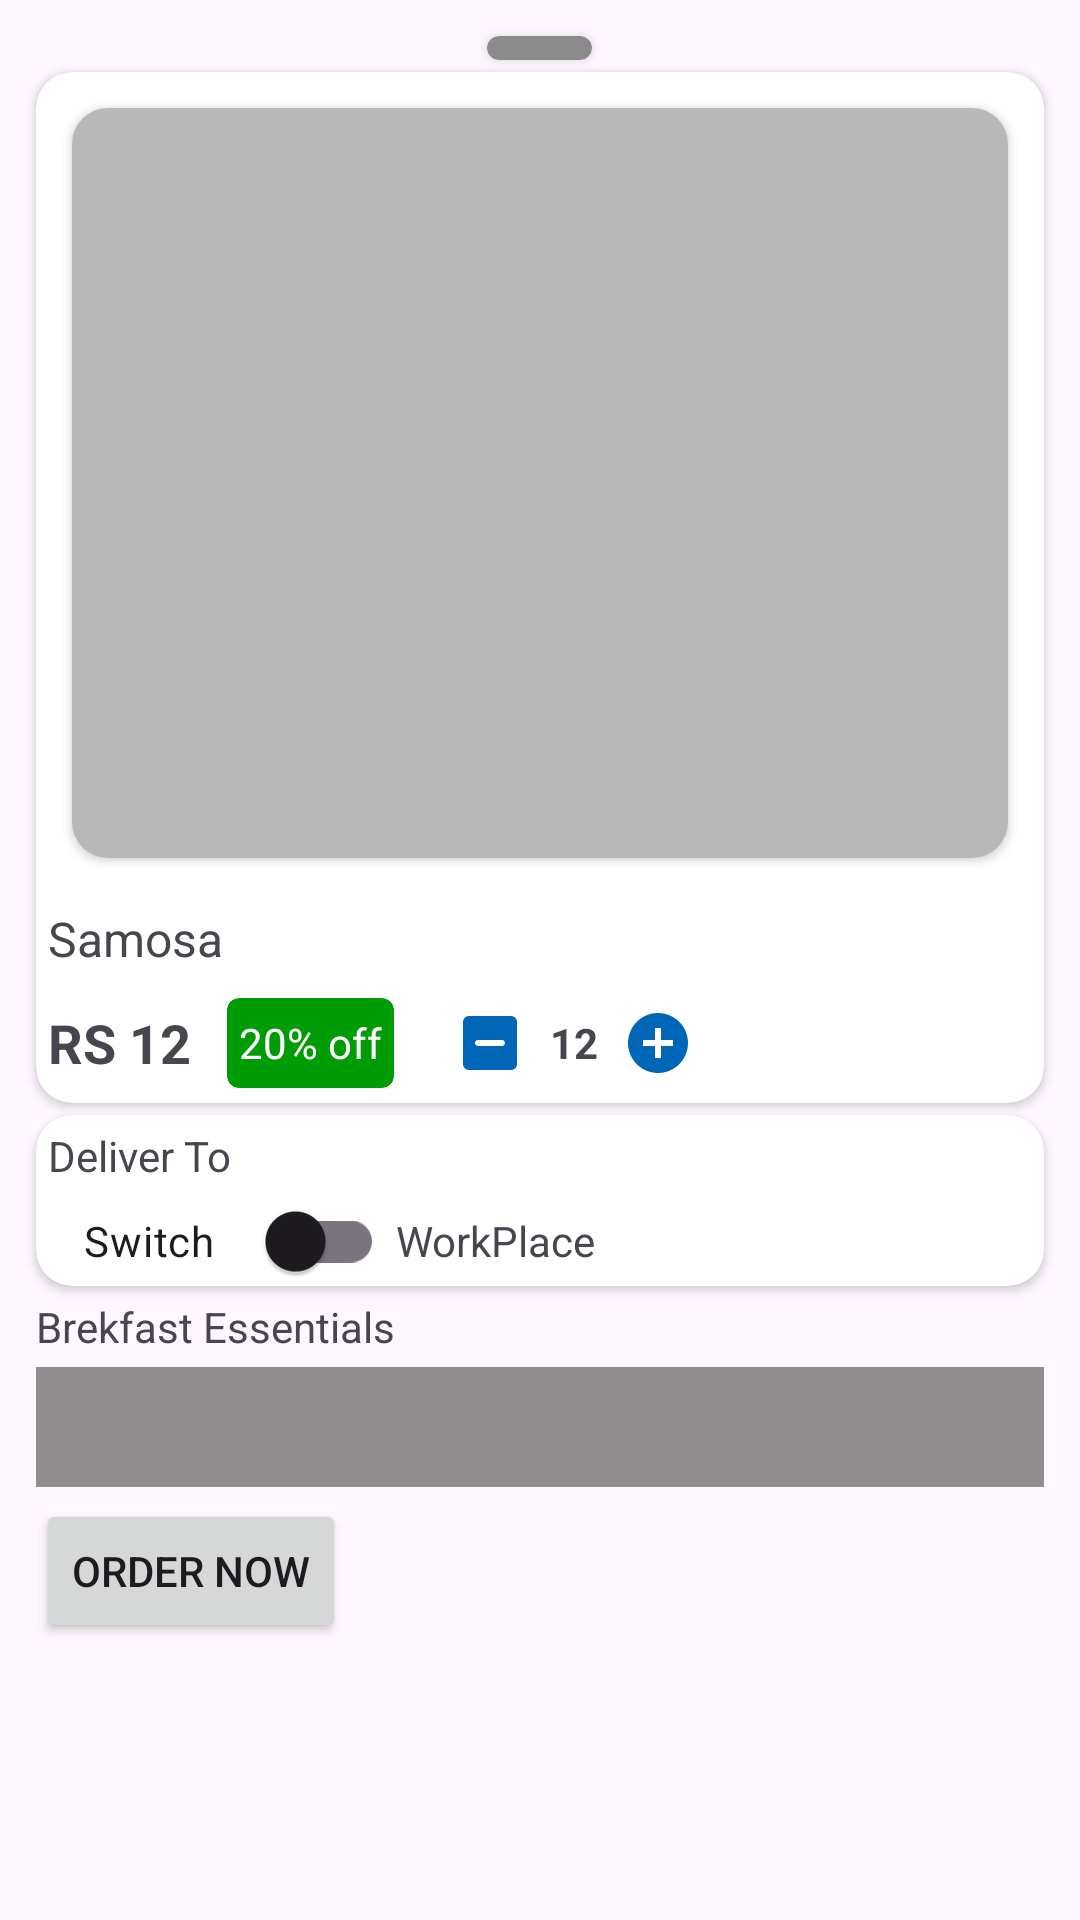

Point at icon controls on the screen. Image size 1080 x 1920, points as [x,y].
add circle: [658,1043]
minus: [490,1043]
